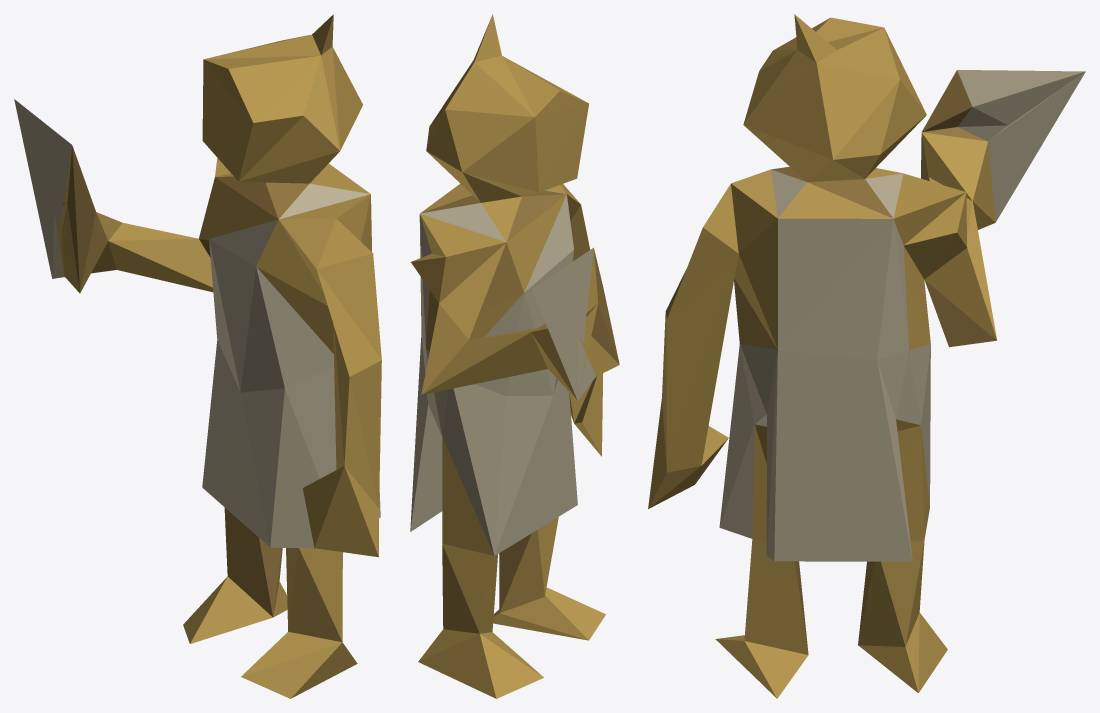
The picture shows the model from 3 angles, left to right: view 1: azimuth 30°, elevation 25°; view 2: azimuth 150°, elevation 25°; view 3: azimuth 270°, elevation 25°; orthographic projection. The views are drawn at different scales.
Parts seen in each view (by area): view 1: lion-200.001; view 2: lion-200.001; view 3: lion-200.001.
Boxes of the visible parts, bbox=[...] form: lion-200.001: bbox=[14, 14, 381, 698]; lion-200.001: bbox=[410, 14, 619, 698]; lion-200.001: bbox=[648, 14, 1085, 698].
Size of the model in its own units: 0.398 by 1.02 by 0.5982.
